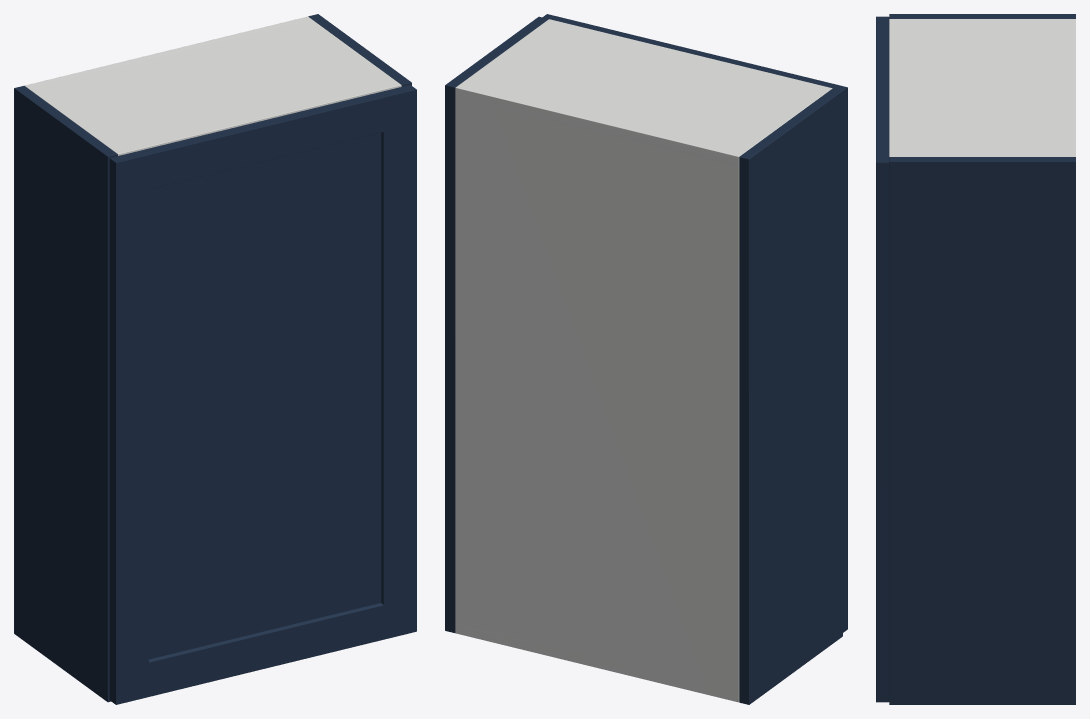
Rendered from oppein-pb-bss-w1236.glb.
3 views of the same model, side by side, from view 1: azimuth 30°, elevation 25°; view 2: azimuth 150°, elevation 25°; view 3: azimuth 270°, elevation 25° (orthographic).
Visible parts, largest first — view 1: Door, Cabinet side, Cabinet top, Cabinet back, Cabinet side.001; view 2: Cabinet back, Cabinet side, Cabinet top, Cabinet side.001, Door, Cabinet bottom; view 3: Cabinet side.001, Cabinet top, Door, Cabinet back, Cabinet side.
Boxes of the visible parts, x1,y1,x2,y2 form: Door: [109, 85, 416, 704]; Cabinet side: [14, 86, 117, 702]; Cabinet top: [24, 19, 401, 155]; Cabinet back: [25, 16, 310, 87]; Cabinet side.001: [308, 14, 411, 86]; Cabinet back: [455, 85, 741, 702]; Cabinet side: [739, 88, 842, 704]; Cabinet top: [455, 19, 832, 166]; Cabinet side.001: [445, 16, 548, 632]; Door: [542, 14, 847, 632]; Cabinet bottom: [455, 623, 739, 702]; Cabinet side.001: [889, 157, 1075, 704]; Cabinet top: [889, 19, 1075, 156]; Door: [876, 16, 889, 702]; Cabinet back: [1068, 19, 1075, 156]; Cabinet side: [889, 14, 1075, 18].
Bounding box in the file's own units: 0.5334 × 0.9144 × 0.3048.
